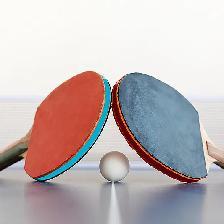WhiteBall: (98, 151, 130, 182)
